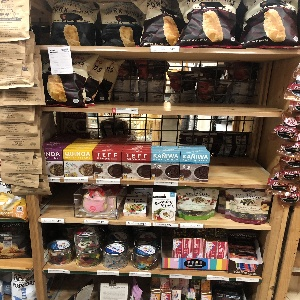void: (123, 57, 279, 107), (211, 117, 272, 183), (41, 184, 72, 216)
